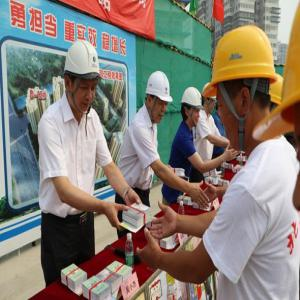white: (62, 38, 103, 117), (146, 69, 172, 125), (180, 89, 202, 128), (202, 83, 219, 115)
yellow: (213, 25, 276, 153)
